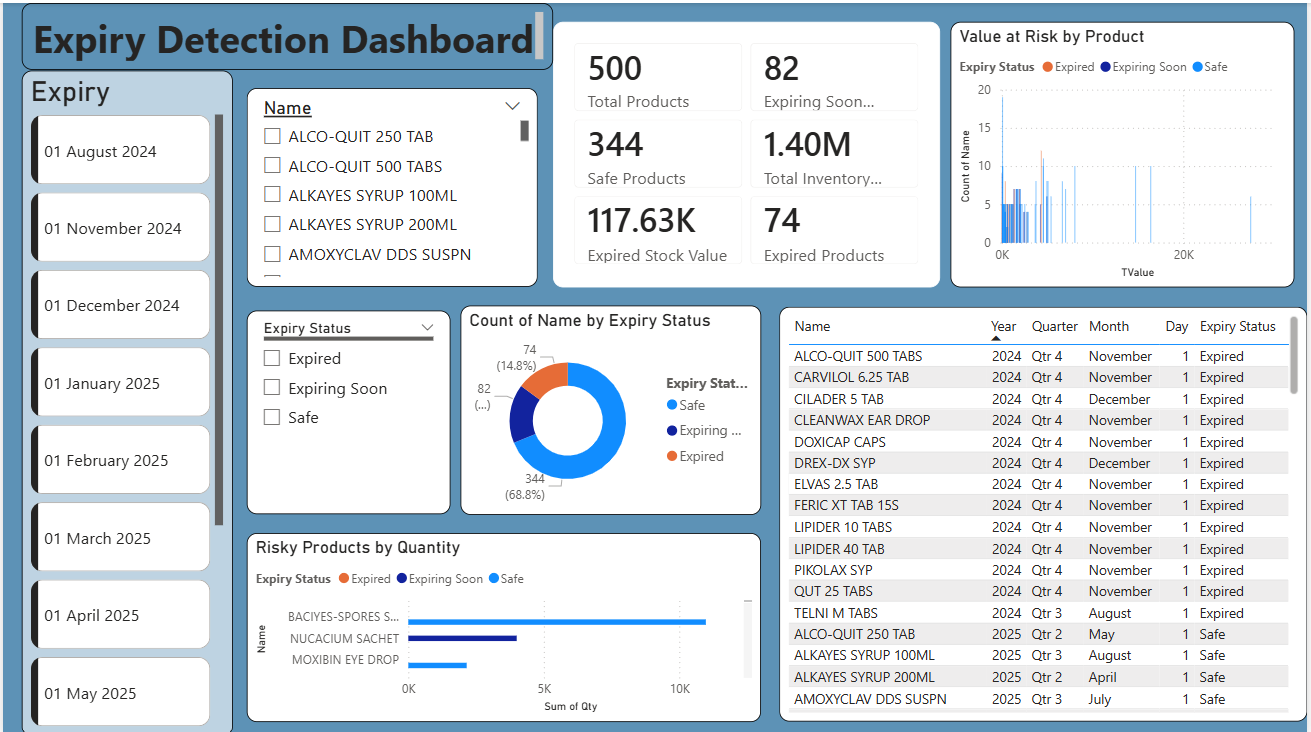

This screenshot's page, from the dashboard's own definition file:
{"tool":"powerbi","page":{"name":"Page 1","canvas":[1280,720],"ordinal":0},"visuals":[{"type":"advancedSlicerVisual","fields":{"Values":["medicinestock (2).Expiry"]},"box":[17.8,65.9,207.2,654.5],"z":0},{"type":"cardVisual","fields":{"Data":["medicinestock (2).Total Products","medicinestock (2).Expiring Soon Products","medicinestock (2).Safe Products","medicinestock (2).Total Inventory Value","medicinestock (2).Expired Stock Value","medicinestock (2).Expired Products"]},"box":[539.3,17.8,380.1,260.7],"z":1000},{"type":"tableEx","fields":{"Values":["medicinestock (2).Name","medicinestock (2).Expiry.Variation.Date Hierarchy.Year","medicinestock (2).Expiry.Variation.Date Hierarchy.Quarter","medicinestock (2).Expiry.Variation.Date Hierarchy.Month","medicinestock (2).Expiry.Variation.Date Hierarchy.Day","medicinestock (2).Expiry Status"]},"box":[761.6,297.8,518.7,407.5],"z":2000},{"type":"donutChart","fields":{"Category":["medicinestock (2).Expiry Status"],"Y":["CountNonNull(medicinestock (2).Name)"]},"box":[448.7,296.4,295,205.8],"z":3000},{"type":"clusteredBarChart","title":"Risky Products by Quantity","fields":{"Category":["medicinestock (2).Name"],"Y":["Sum(medicinestock (2).Qty)"],"Series":["medicinestock (2).Expiry Status"]},"box":[238.8,520.1,505,185.2],"z":4000},{"type":"clusteredColumnChart","title":"Value at Risk by Product","fields":{"Category":["medicinestock (2).TValue"],"Y":["CountNonNull(medicinestock (2).Name)"],"Series":["medicinestock (2).Expiry Status"]},"box":[930.4,17.8,337.6,260.7],"z":5000},{"type":"slicer","fields":{"Values":["medicinestock (2).Expiry Status"]},"box":[238.8,301.9,200.3,200.3],"z":6000},{"type":"slicer","fields":{"Values":["medicinestock (2).Name"]},"box":[238.8,83.7,285.4,194.9],"z":7000},{"type":"textbox","box":[17.8,0,521.4,65.9],"z":8000}]}

Visuals, with their boxes in screenshot pixels (x1, y1, x2, y2), scaled from the page's 1280x720 canvas onto the 1311x732 screenshot:
advancedSlicerVisual - medicinestock (2).Expiry: (18,67,230,731)
cardVisual - medicinestock (2).Total Products x medicinestock (2).Expiring Soon Products: (552,18,942,283)
tableEx - medicinestock (2).Name x medicinestock (2).Expiry.Variation.Date Hierarchy.Year: (780,303,1310,717)
donutChart - medicinestock (2).Expiry Status x CountNonNull(medicinestock (2).Name): (460,301,762,511)
"Risky Products by Quantity" clusteredBarChart: (245,529,762,717)
"Value at Risk by Product" clusteredColumnChart: (953,18,1299,283)
slicer - medicinestock (2).Expiry Status: (245,307,450,511)
slicer - medicinestock (2).Name: (245,85,537,283)
textbox: (18,0,552,67)
